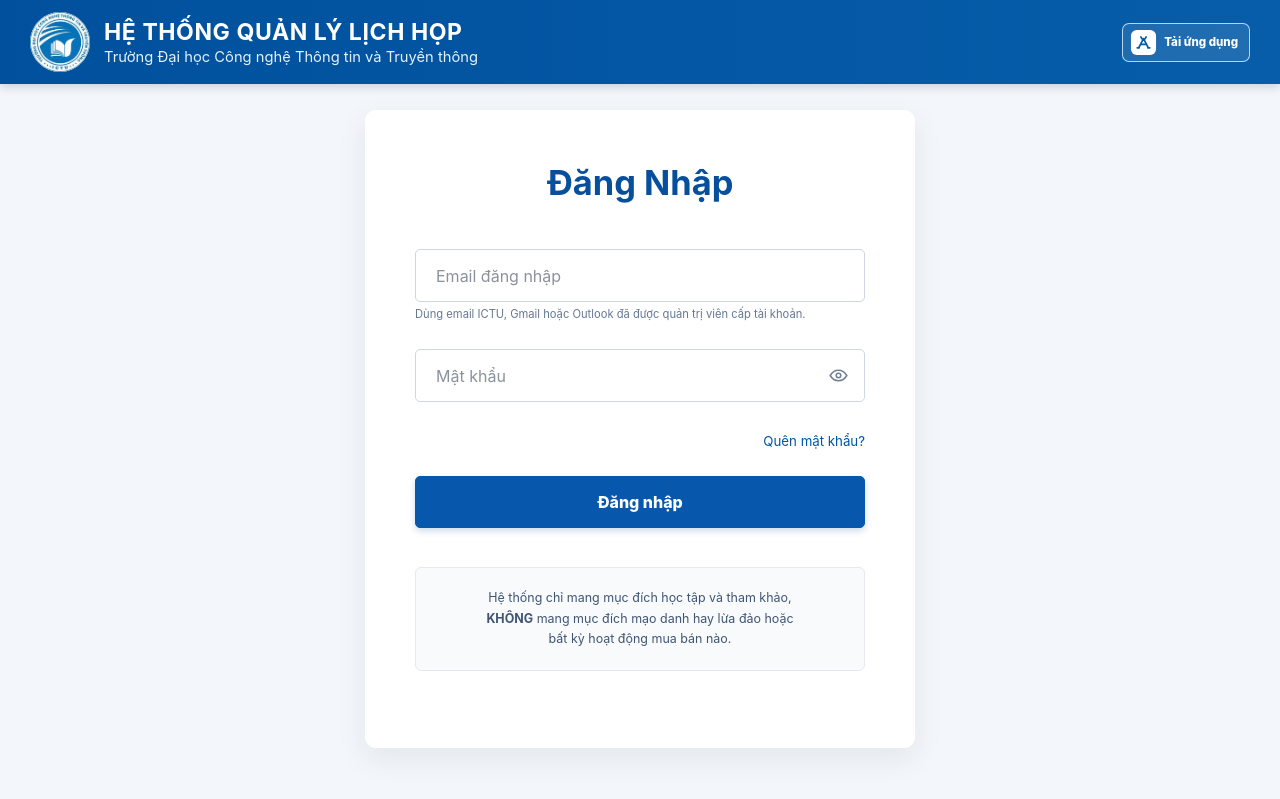
Test: LoginPage › rejects an employee code with a readable message instead of an object
In the field labelled "Email đăng nhập": (640, 276) x1=415 y1=249 x2=865 y2=302, type "DTCAD001"
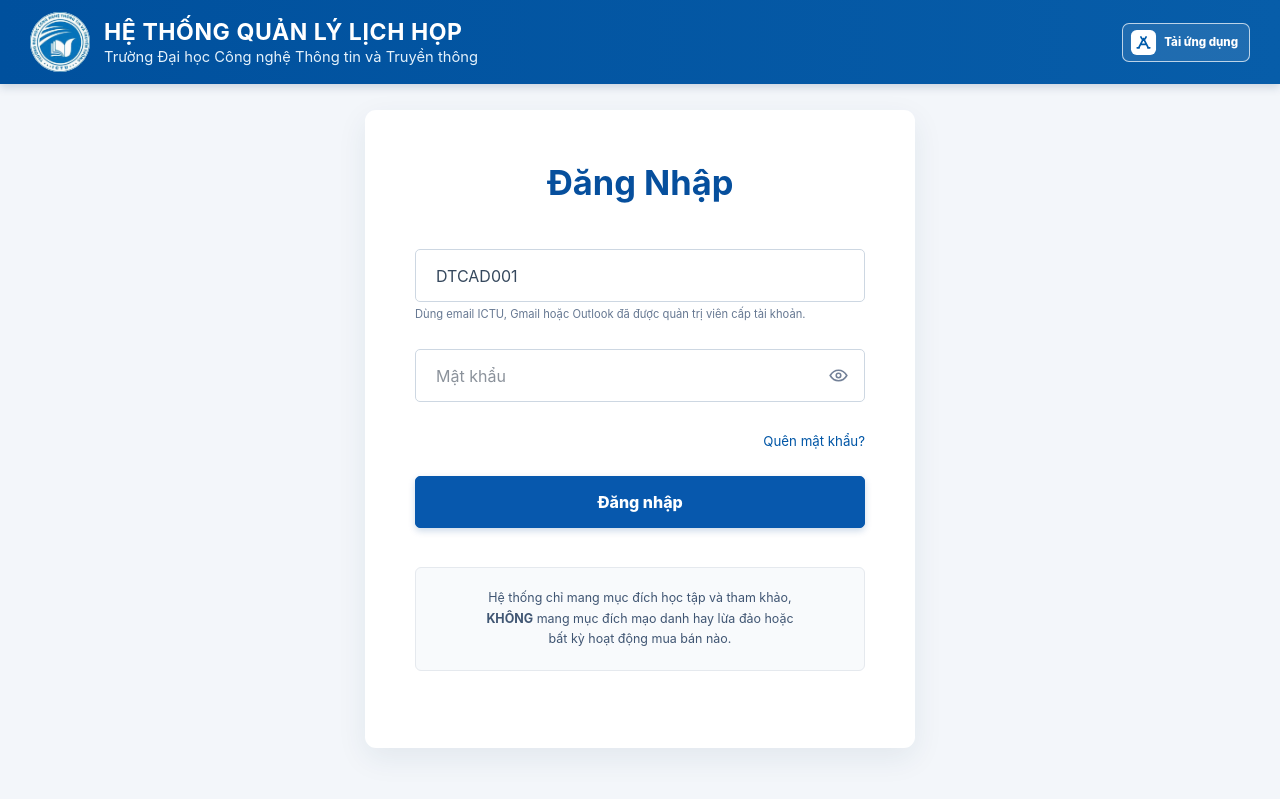
In the password field labelled "Mật khẩu": (640, 376) x1=415 y1=349 x2=865 y2=402, type "ICTU123"
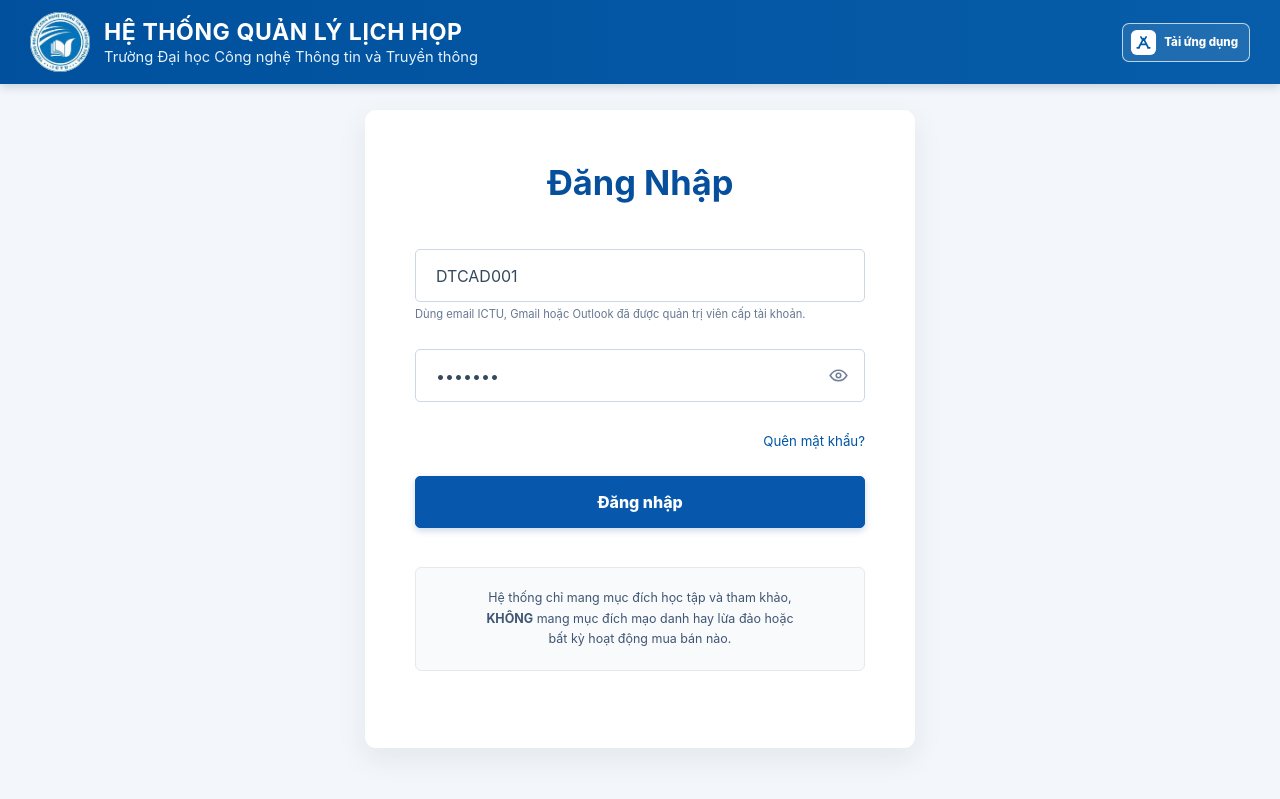
Click the button "Đăng nhập": (640, 502) x1=415 y1=476 x2=865 y2=528
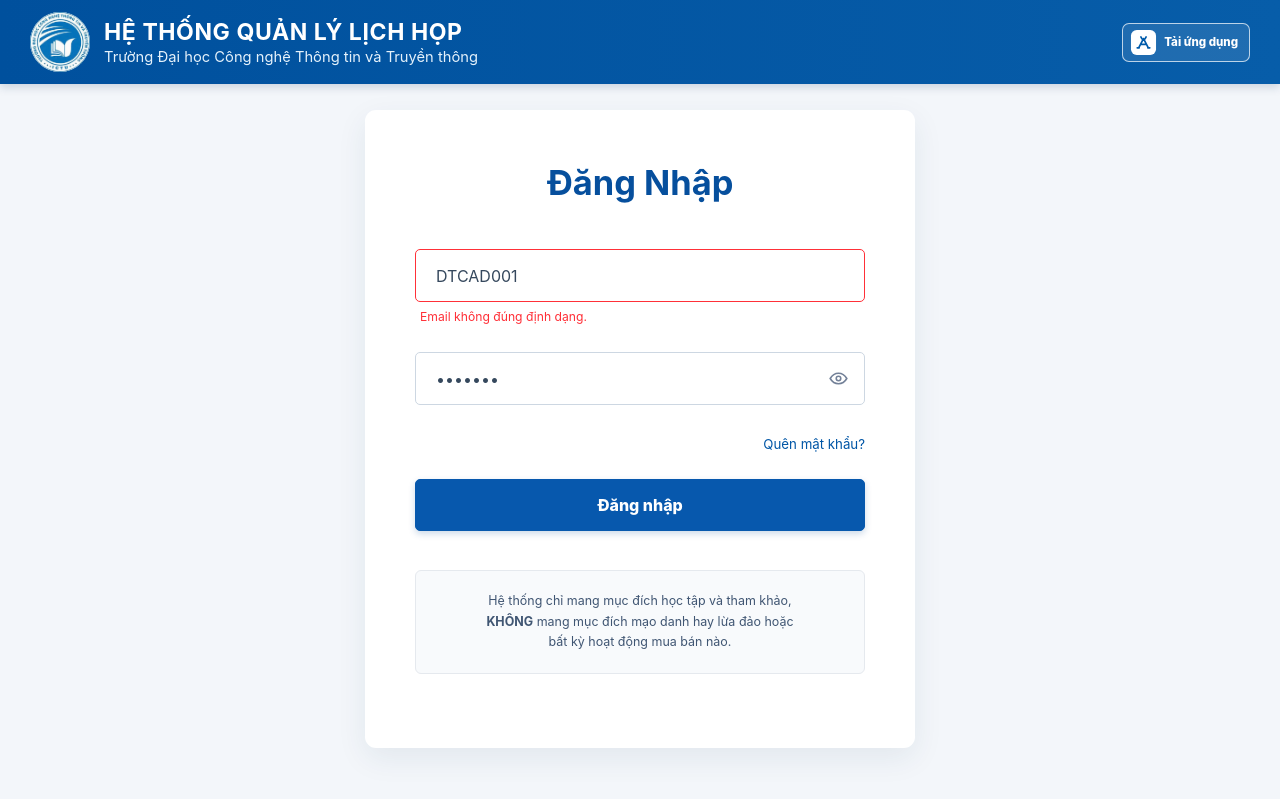
Expected: the text "Email không đúng định dạng." is shown, x1=420 y1=309 x2=587 y2=324
